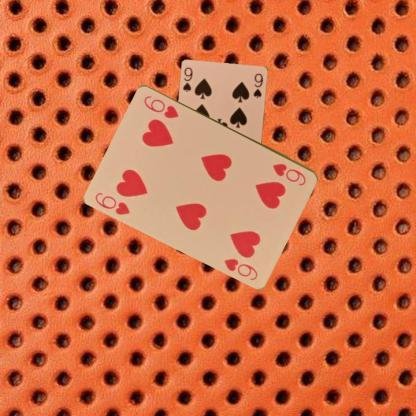6h: (92, 190, 132, 216), (270, 160, 308, 187)
9s: (180, 64, 194, 93)
